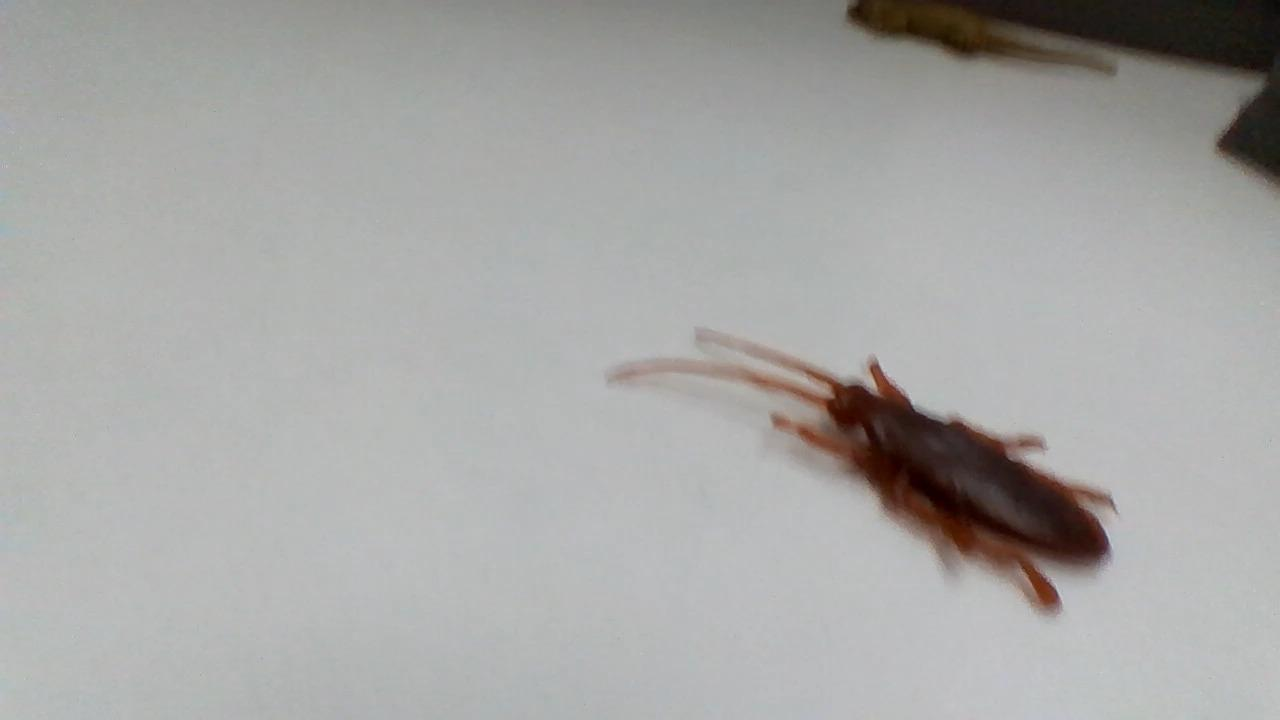cockroach: (633, 330, 1121, 615)
lizard: (843, 0, 1126, 78)
